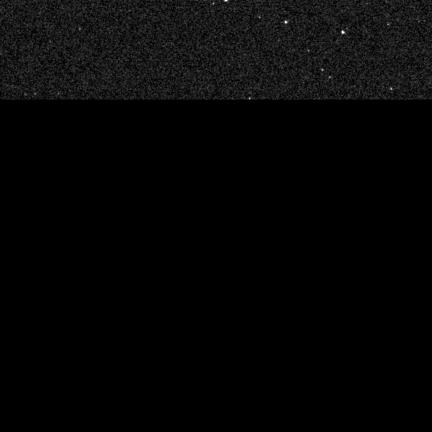blob: (342, 31, 346, 35), (285, 21, 288, 24)
